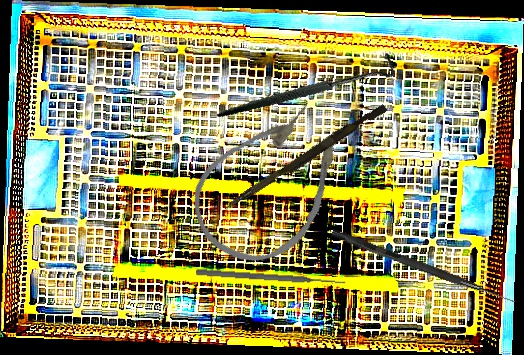Cannula: (171, 82, 372, 287)
Hook Surgical: (215, 17, 400, 155), (330, 228, 517, 306)
Pusher: (222, 99, 388, 218), (195, 267, 347, 288)
